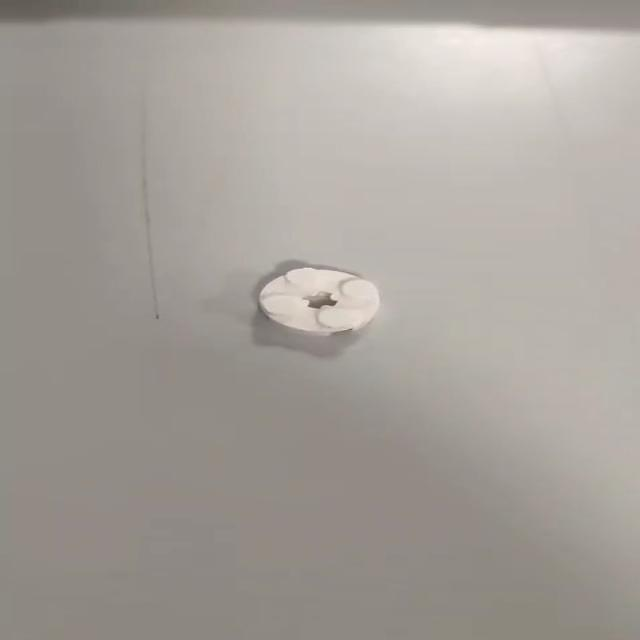S2x2x0: (256, 264, 380, 335)
